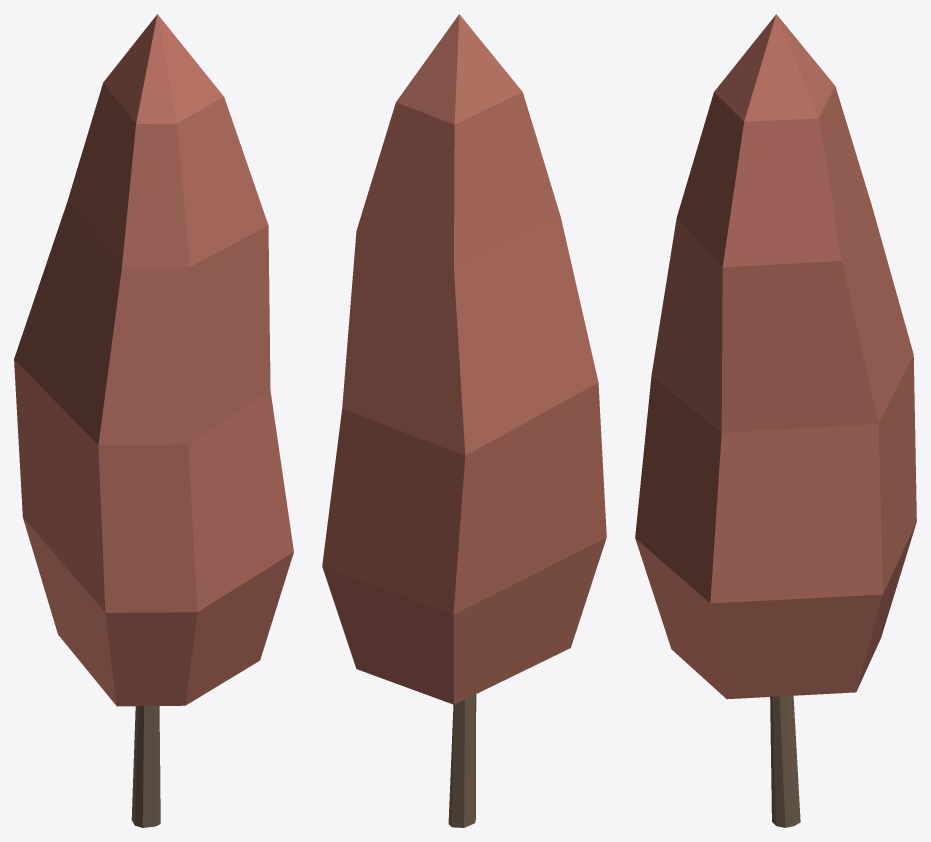
Rendered from Tree_4.fbx.
3 views of the same model, side by side, from view 1: azimuth 30°, elevation 25°; view 2: azimuth 150°, elevation 25°; view 3: azimuth 270°, elevation 25° (orthographic).
Visible parts, largest first — view 1: Tree_4; view 2: Tree_4; view 3: Tree_4.
Boxes of the visible parts, x1,y1,x2,y2 form: Tree_4: (14, 14, 293, 827); Tree_4: (322, 14, 606, 827); Tree_4: (635, 14, 916, 827).
Bounding box in the file's own units: 125 × 150 × 476.
